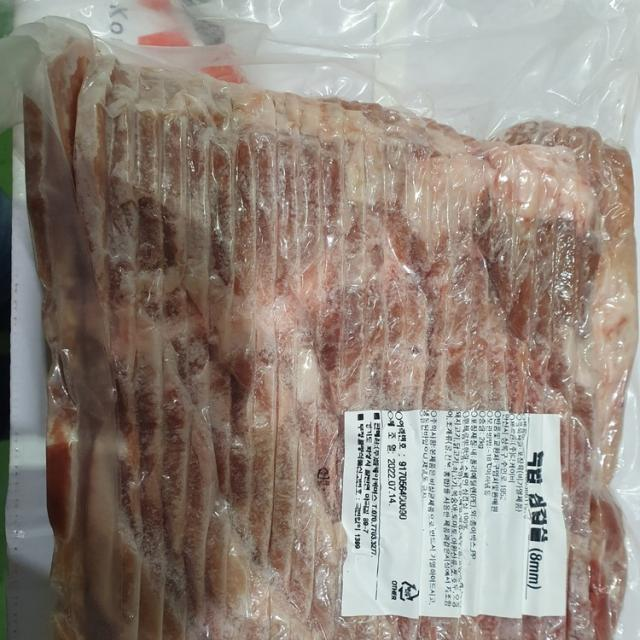pork: (13, 19, 640, 640)
